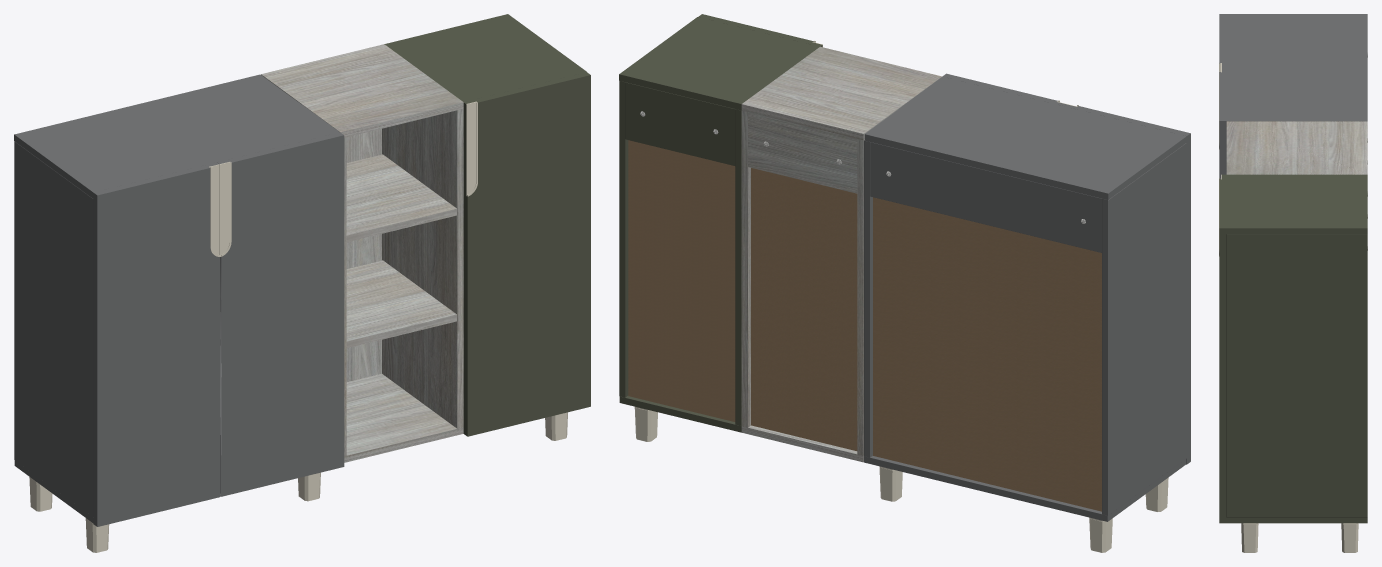
The picture shows the model from 3 angles, left to right: view 1: azimuth 30°, elevation 25°; view 2: azimuth 150°, elevation 25°; view 3: azimuth 270°, elevation 25°; orthographic projection. The views are drawn at different scales.
Visible parts, largest first — view 1: group_0.467, Cube.003, Cube.005, group_0.115; view 2: group_0.467, group_0.369, Cube.005, group_0.090, Cube.003, group_0.115; view 3: Cube.003, group_0.467, Cube.005, group_0.115.
Part boxes in pixels (x1,y1,x2,y2): group_0.467: (14,74,344,526); Cube.003: (384,14,590,436); Cube.005: (261,44,463,462); group_0.115: (29,101,567,552); group_0.467: (864,73,1190,521); group_0.369: (873,197,1101,511); Cube.005: (741,46,942,462); group_0.090: (628,140,735,421); Cube.003: (619,14,822,432); group_0.115: (634,40,1168,552); Cube.003: (1219,174,1367,523); group_0.467: (1219,14,1367,178); Cube.005: (1226,121,1367,174); group_0.115: (1219,63,1358,552).
Size of the model in its own units: 1.4 by 1 by 0.4114.
6 materials, 2 textured.
